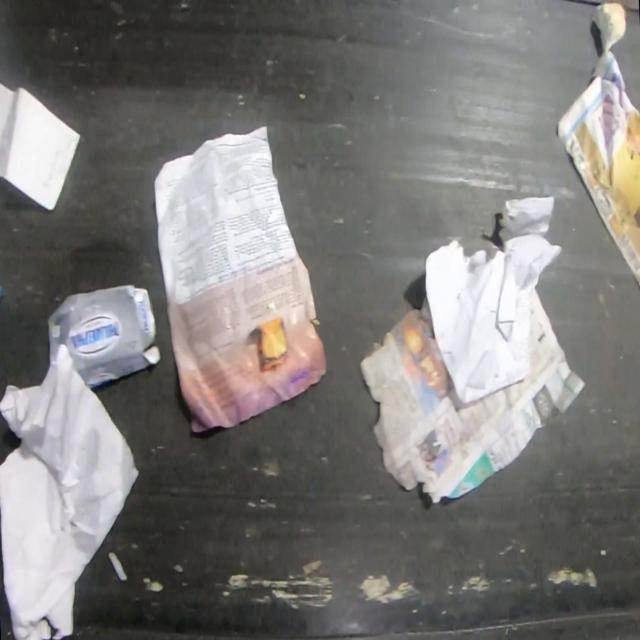cardboard: (46, 284, 160, 389)
